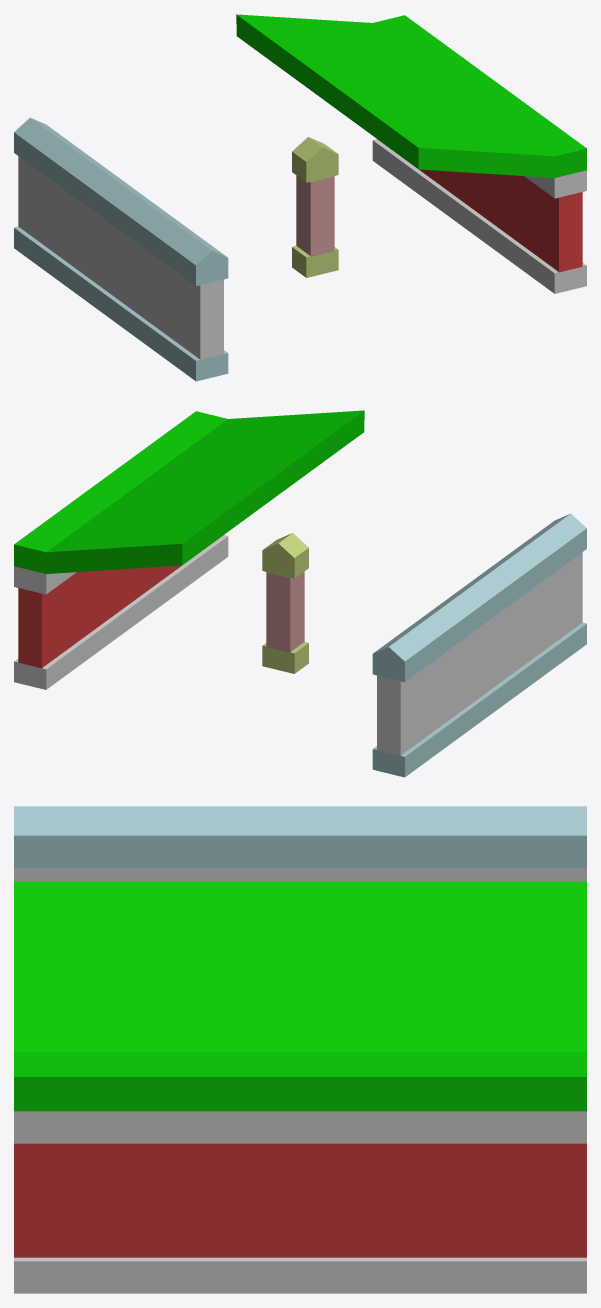
File: MazeBuildBlock.fbx
The picture shows the model from 3 angles, top to bottom: view 1: azimuth 30°, elevation 25°; view 2: azimuth 150°, elevation 25°; view 3: azimuth 270°, elevation 25°; orthographic projection. The views are drawn at different scales.
Parts seen in each view (by area): view 1: MazeBuildBlockWithCeilling, MazeBuildBock, MazeBuildBlockToken; view 2: MazeBuildBlockWithCeilling, MazeBuildBock, MazeBuildBlockToken; view 3: MazeBuildBlockWithCeilling, MazeBuildBock.
Part boxes in pixels (box(x1,y1,x2,y2)): MazeBuildBlockWithCeilling: box(236, 14, 586, 293); MazeBuildBock: box(14, 117, 228, 381); MazeBuildBlockToken: box(292, 137, 338, 277); MazeBuildBlockWithCeilling: box(14, 410, 364, 689); MazeBuildBock: box(372, 513, 586, 777); MazeBuildBlockToken: box(262, 533, 308, 673); MazeBuildBlockWithCeilling: box(14, 881, 586, 1293); MazeBuildBock: box(14, 806, 586, 881).
Bounding box in the file's own units: 706 × 319 × 569.
